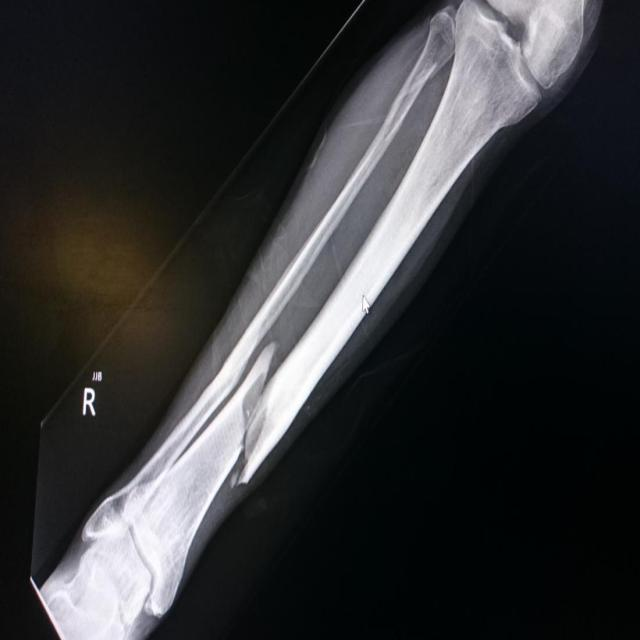bone: (188, 320, 308, 516)
